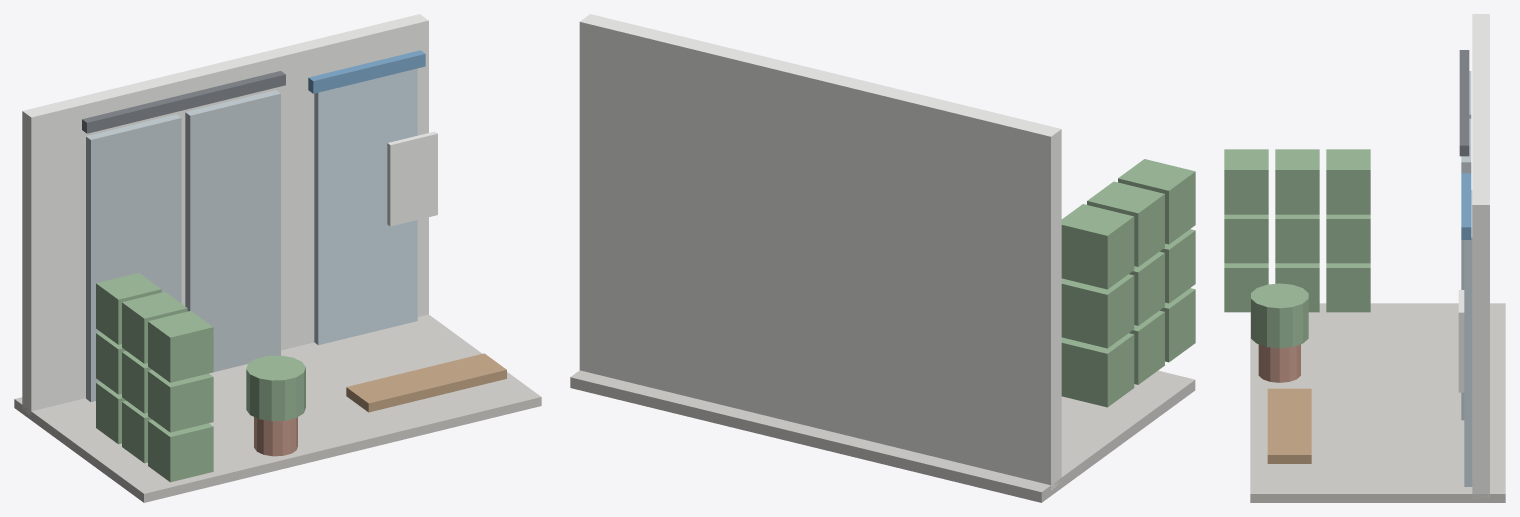
The model's file is webtoon_apartment_lobby_module.glb.
The picture shows the model from 3 angles, left to right: view 1: azimuth 30°, elevation 25°; view 2: azimuth 150°, elevation 25°; view 3: azimuth 270°, elevation 25°; orthographic projection. The views are drawn at different scales.
Parts seen in each view (by area): view 1: back wall, lobby floor, elevator door right, glass entrance door, parcel locker (×9), elevator door left, bench, notice board, plant foliage, elevator header, entrance sign, plant pot; view 2: back wall, parcel locker (×9), lobby floor; view 3: lobby floor, parcel locker (×9), back wall, plant foliage, bench, glass entrance door, plant pot, elevator header, entrance sign, notice board, elevator door right.
Part boxes in pixels (x1,y1,x2,y2): back wall: (22, 14, 428, 415); lobby floor: (14, 314, 541, 502); elevator door right: (185, 90, 280, 371); glass entrance door: (314, 68, 417, 345); parcel locker (×9): (96, 273, 213, 482); elevator door left: (86, 114, 181, 401); bench: (346, 353, 506, 412); notice board: (387, 131, 437, 226); plant foliage: (246, 355, 305, 421); elevator header: (82, 71, 285, 133); entrance sign: (308, 50, 425, 93); plant pot: (254, 417, 297, 456); back wall: (579, 14, 1061, 490); parcel locker (×9): (1061, 159, 1195, 407); lobby floor: (570, 370, 1195, 502); lobby floor: (1250, 303, 1505, 502); parcel locker (×9): (1224, 149, 1370, 312); back wall: (1472, 14, 1489, 498); plant foliage: (1251, 283, 1308, 348); bench: (1267, 388, 1311, 463); glass entrance door: (1464, 190, 1472, 486); plant pot: (1258, 344, 1300, 382); elevator header: (1459, 50, 1469, 156); entrance sign: (1461, 173, 1471, 239); notice board: (1458, 290, 1464, 392); elevator door right: (1461, 118, 1471, 420).
Bounding box in the file's own units: 4.62 × 3.35 × 2.87.
